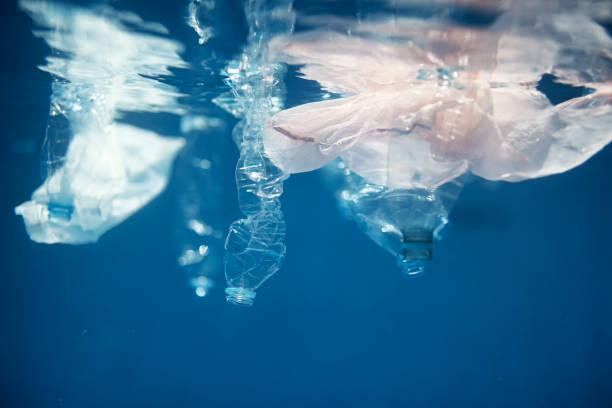Plastic: (350, 103, 463, 288), (227, 119, 284, 318)
